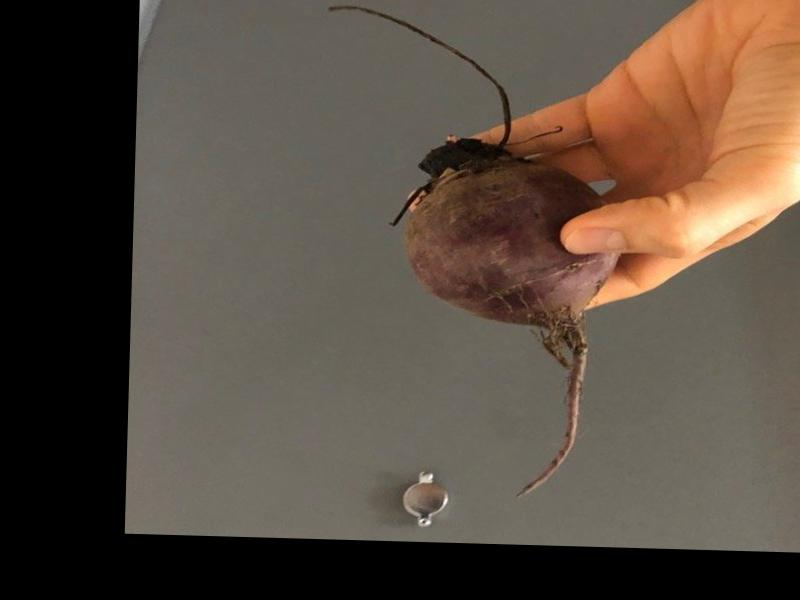Beet: (311, 5, 626, 498)
